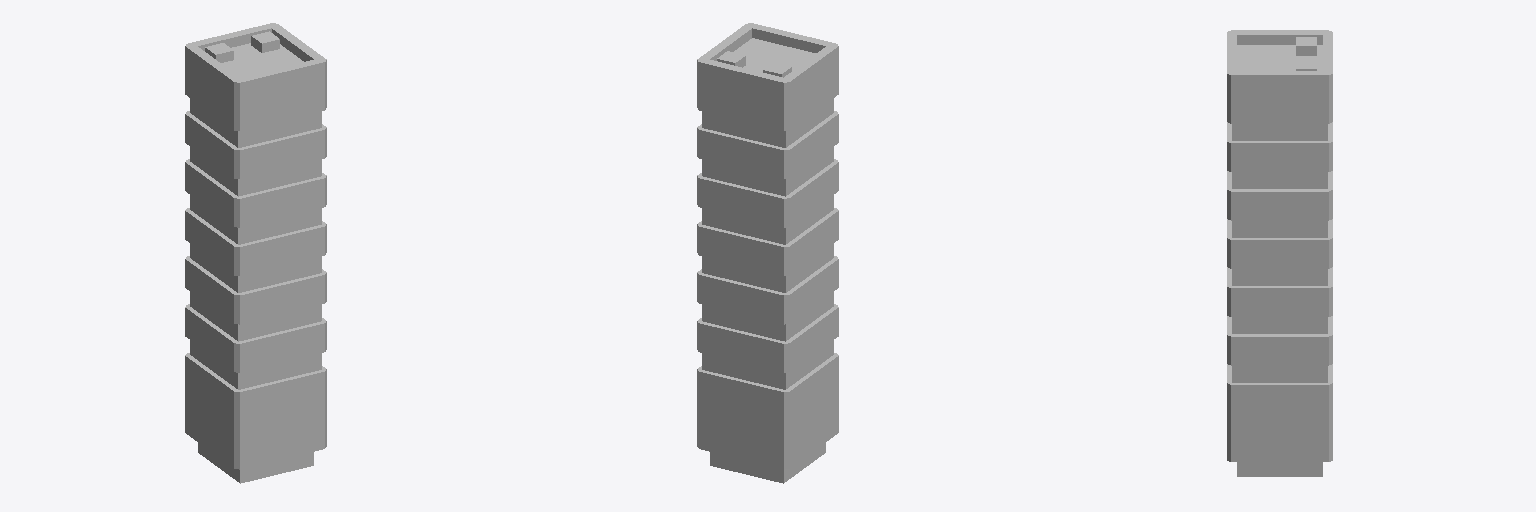
The model's file is low-detail-building-h.obj.
The picture shows the model from 3 angles: view 1: azimuth 30°, elevation 25°; view 2: azimuth 150°, elevation 25°; view 3: azimuth 270°, elevation 25°; orthographic projection.
Visible parts, largest first — view 1: low-detail-building-h; view 2: low-detail-building-h; view 3: low-detail-building-h.
Boxes of the visible parts, <box> form: low-detail-building-h: <box>185,23,326,483</box>; low-detail-building-h: <box>697,23,838,483</box>; low-detail-building-h: <box>1227,30,1332,476</box>.
Bounding box in the file's own units: 0.5 × 2.1 × 0.5.